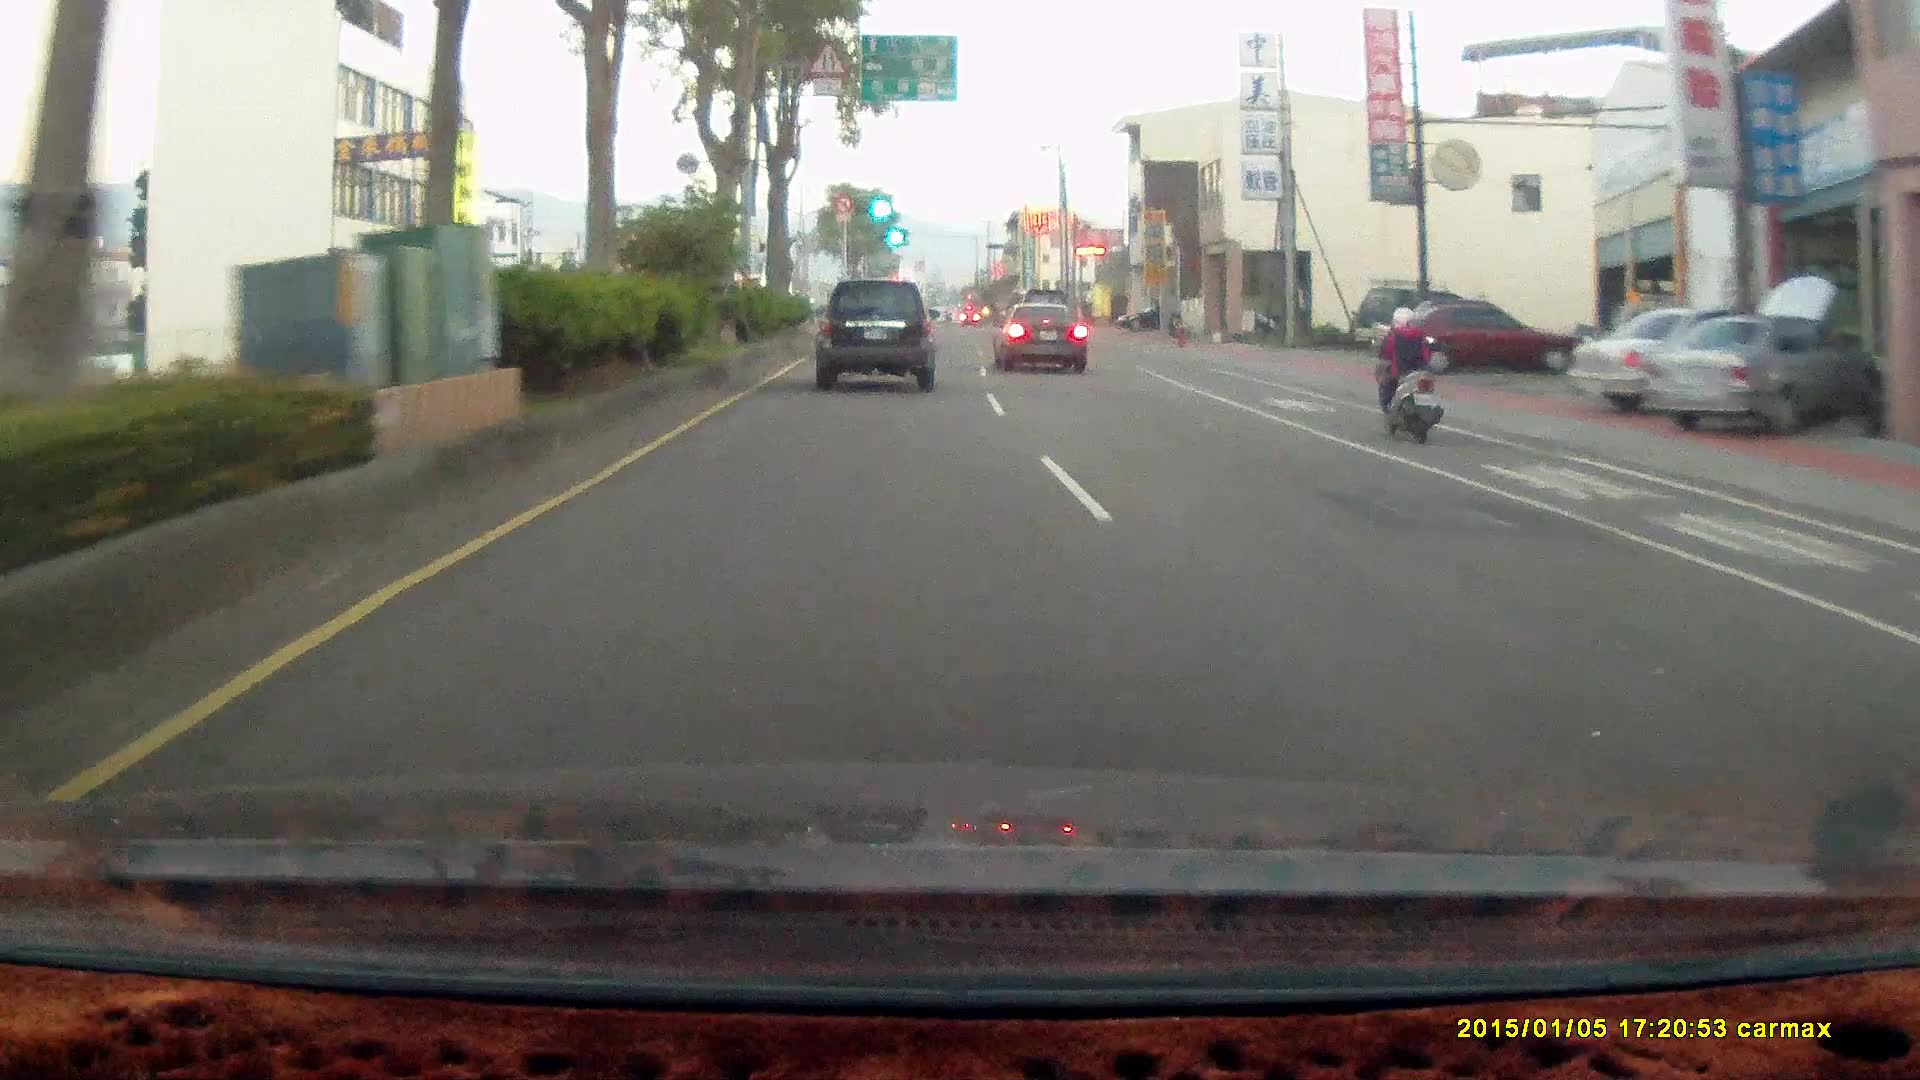rider: (1359, 292, 1459, 453), (1370, 302, 1443, 441)
vehicle: (1645, 307, 1881, 435), (1646, 308, 1882, 436), (1567, 303, 1801, 414), (1378, 296, 1580, 378), (1377, 295, 1581, 374), (812, 273, 942, 389), (814, 279, 937, 393), (1351, 273, 1473, 350), (994, 301, 1090, 376), (992, 300, 1087, 373), (1115, 305, 1180, 332)
